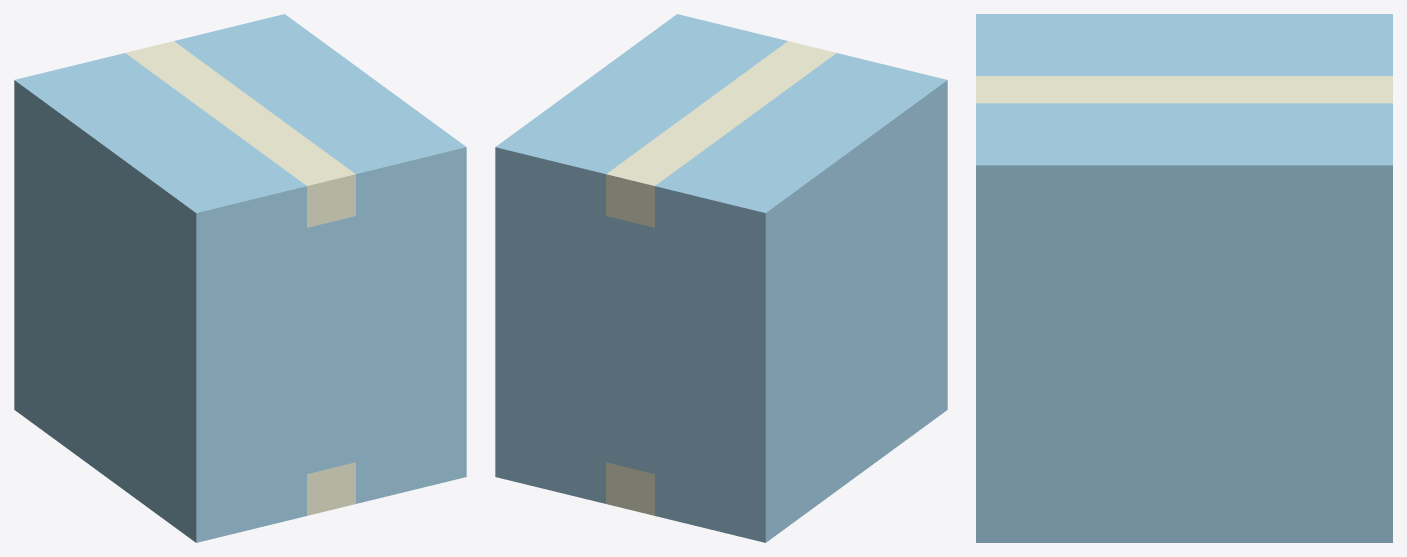
File: main_BLUE_03.fbx
3 views of the same model, side by side, from view 1: azimuth 30°, elevation 25°; view 2: azimuth 150°, elevation 25°; view 3: azimuth 270°, elevation 25° (orthographic). The views are drawn at different scales.
Parts seen in each view (by area): view 1: Cardboard Box 03; view 2: Cardboard Box 03; view 3: Cardboard Box 03.
Boxes of the visible parts, x1,y1,x2,y2 form: Cardboard Box 03: [14, 14, 466, 542]; Cardboard Box 03: [495, 14, 947, 542]; Cardboard Box 03: [976, 14, 1392, 542].
Bounding box in the file's own units: 19.48 × 22.7 × 22.7.
